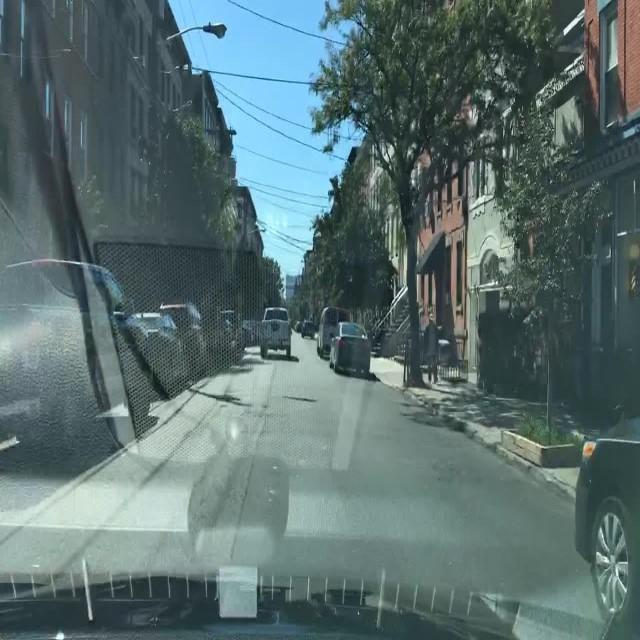normal: (310, 302, 382, 380), (260, 304, 295, 358)
